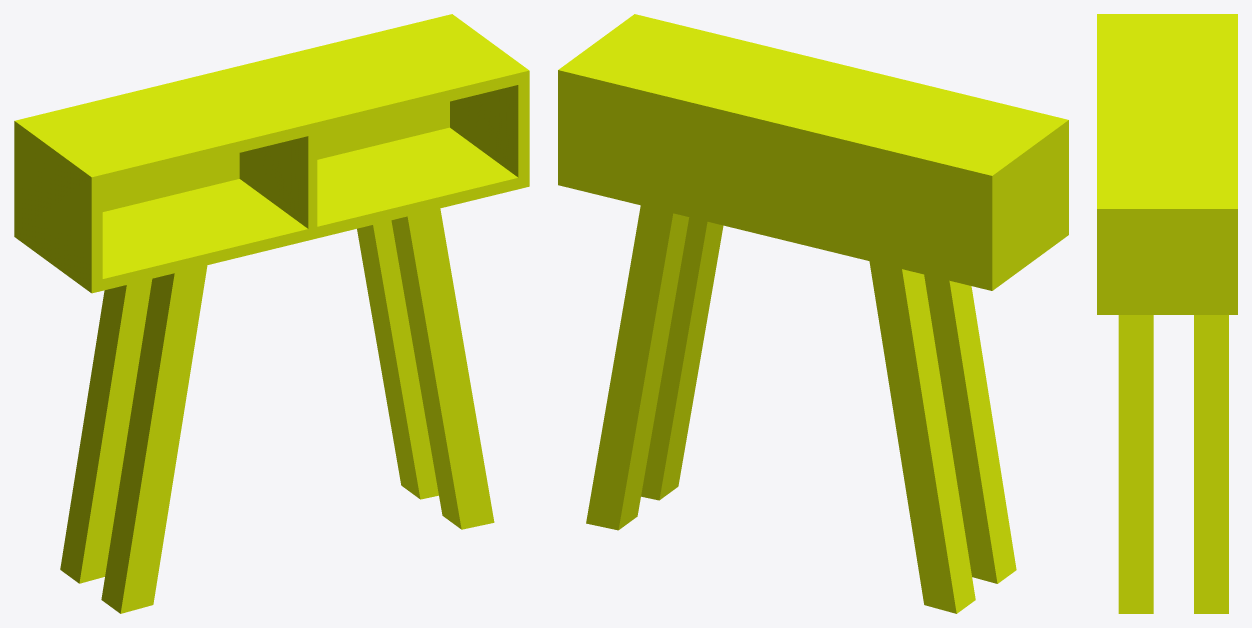
The model's file is TallTable3.FBX.
3 views of the same model, side by side, from view 1: azimuth 30°, elevation 25°; view 2: azimuth 150°, elevation 25°; view 3: azimuth 270°, elevation 25° (orthographic). The views are drawn at different scales.
Parts seen in each view (by area): view 1: Box001; view 2: Box001; view 3: Box001.
Part boxes in pixels (x1,y1,x2,y2): Box001: [14, 14, 529, 613]; Box001: [558, 14, 1068, 613]; Box001: [1097, 14, 1237, 613].
Size of the model in its own units: 1.05 by 1.04 by 0.32.
